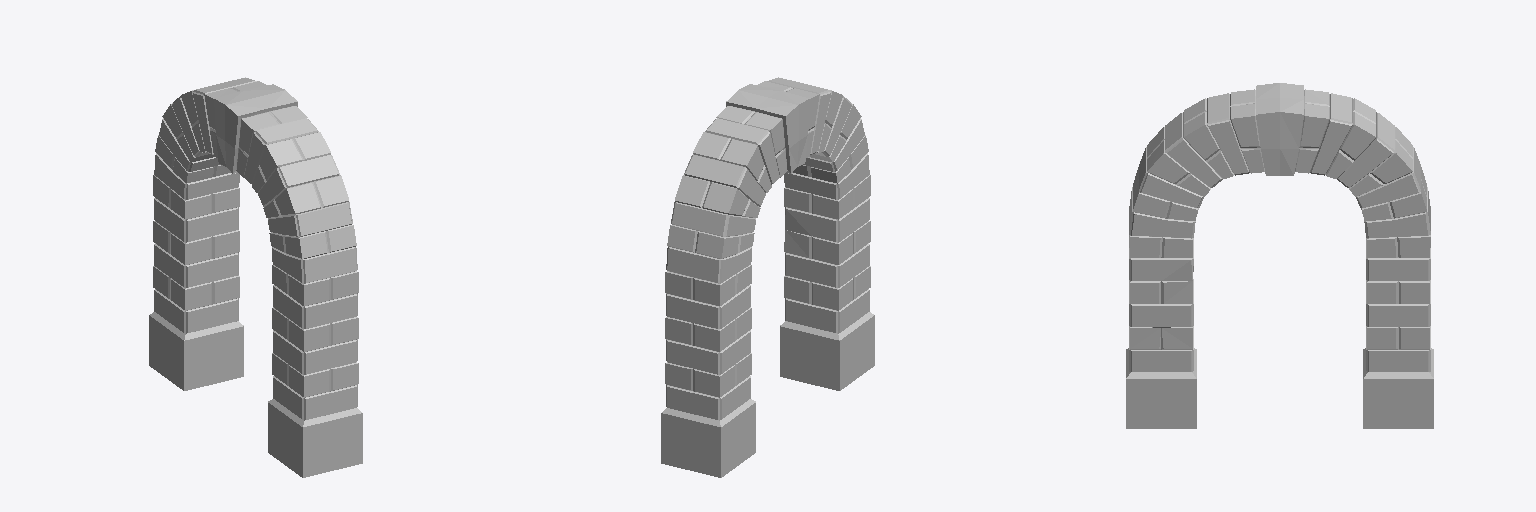
File: ark.obj
3 views of the same model, side by side, from view 1: azimuth 30°, elevation 25°; view 2: azimuth 150°, elevation 25°; view 3: azimuth 270°, elevation 25° (orthographic).
Visible parts, largest first — view 1: Box001; view 2: Box001; view 3: Box001.
Part boxes in pixels (bbox=[...]): Box001: bbox=[149, 77, 362, 477]; Box001: bbox=[661, 77, 874, 477]; Box001: bbox=[1126, 83, 1433, 428].
Size of the model in its own units: 19.93 by 97.63 by 85.73.